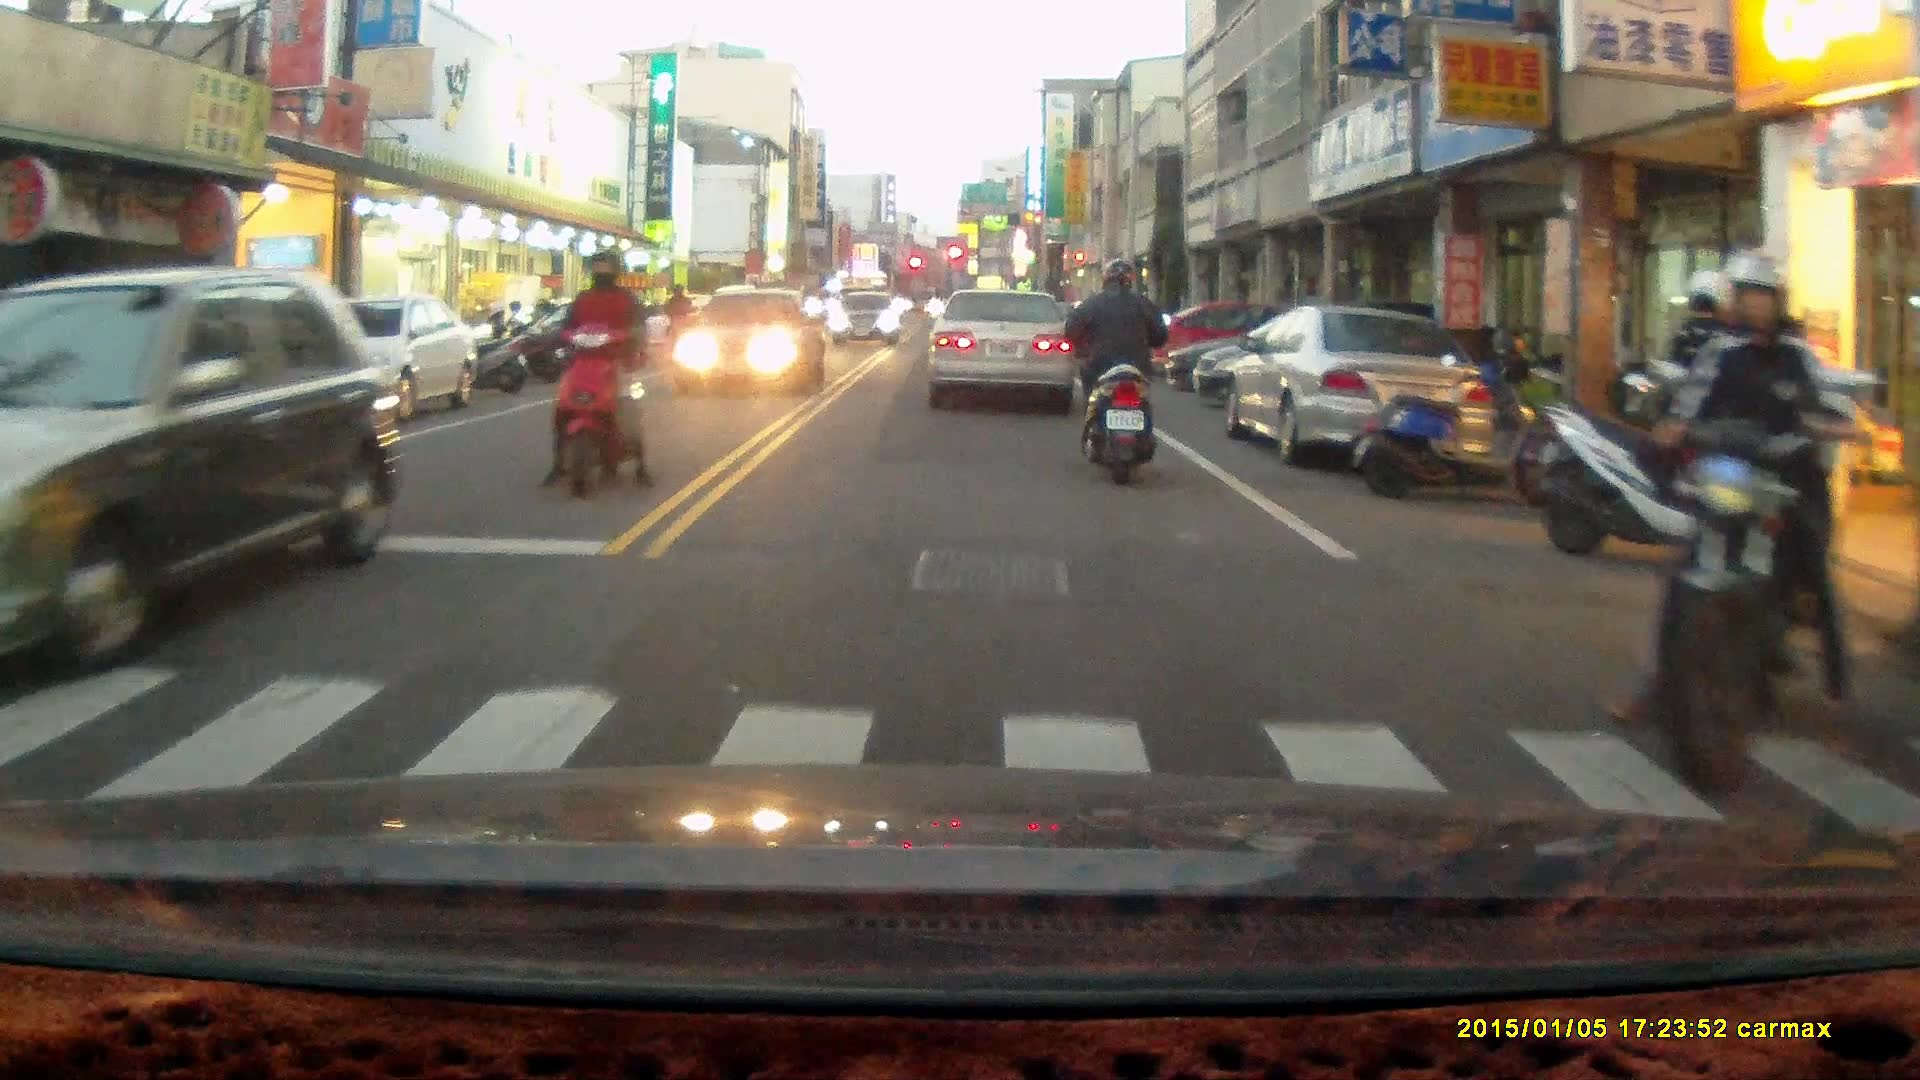pedestrian: (660, 283, 690, 356)
rider: (1606, 258, 1878, 800), (541, 246, 656, 499), (1067, 253, 1176, 482)
vehicle: (1, 268, 413, 663), (1224, 305, 1493, 471), (251, 289, 481, 431), (927, 289, 1081, 410), (1140, 294, 1357, 379), (675, 283, 828, 391), (827, 290, 904, 347)
